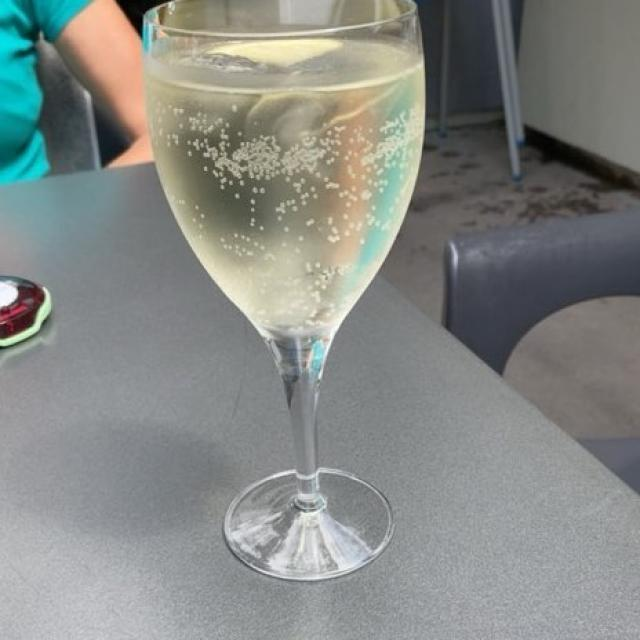wine: (149, 34, 421, 335)
